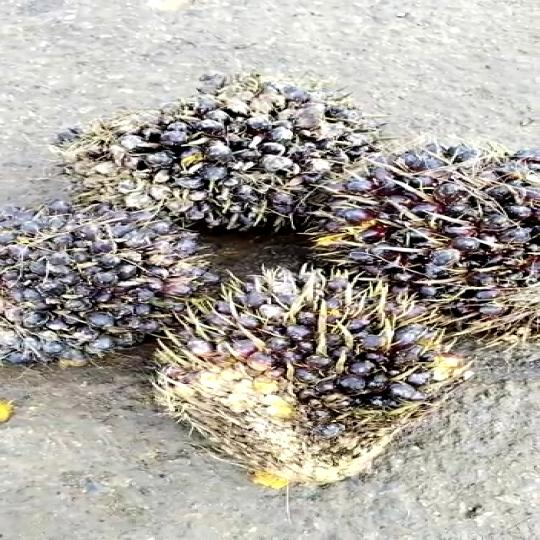mentah: (160, 251, 437, 502), (50, 76, 393, 223), (342, 138, 540, 324), (0, 190, 193, 377)
